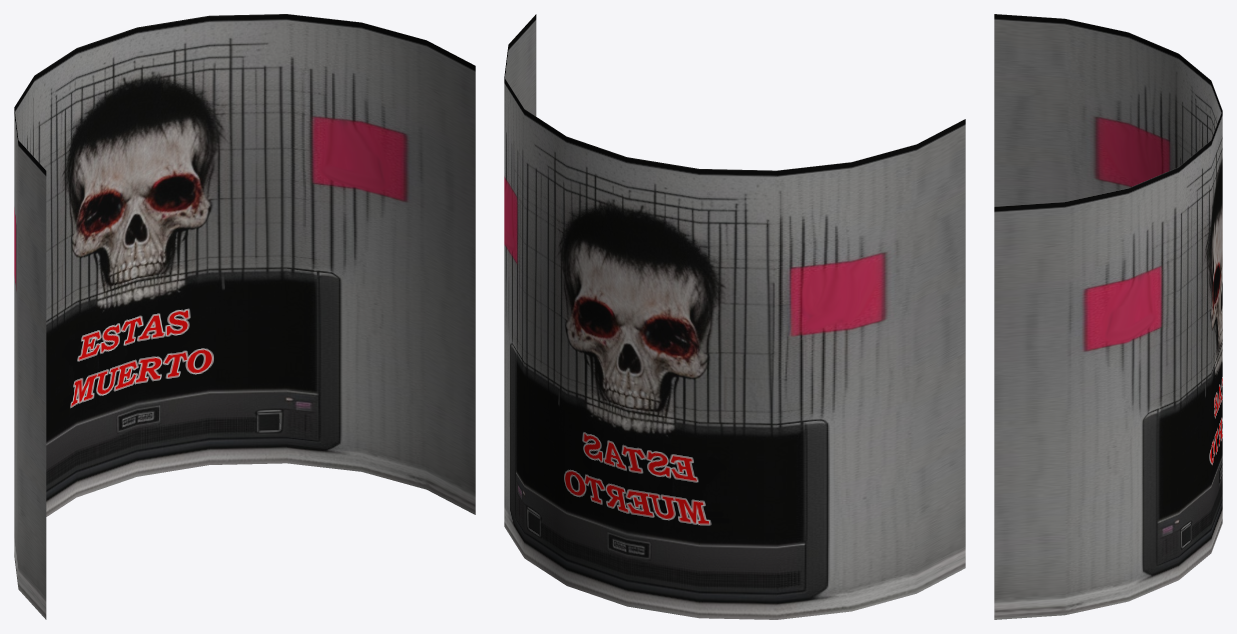
File: LOSE.fbx
3 renders of one model, left to right at view 1: azimuth 30°, elevation 25°; view 2: azimuth 150°, elevation 25°; view 3: azimuth 270°, elevation 25°, orthographic. The views are drawn at different scales.
Parts seen in each view (by area): view 1: pCylinder1; view 2: pCylinder1; view 3: pCylinder1.
Part boxes in pixels (bbox=[...]): pCylinder1: bbox=[14, 14, 475, 619]; pCylinder1: bbox=[504, 14, 965, 619]; pCylinder1: bbox=[994, 14, 1222, 619].
Size of the model in its own units: 70.15 by 70.15 by 35.07.
Materials: 1 (1 with a texture image).
